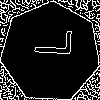L: (25, 27, 72, 57)
